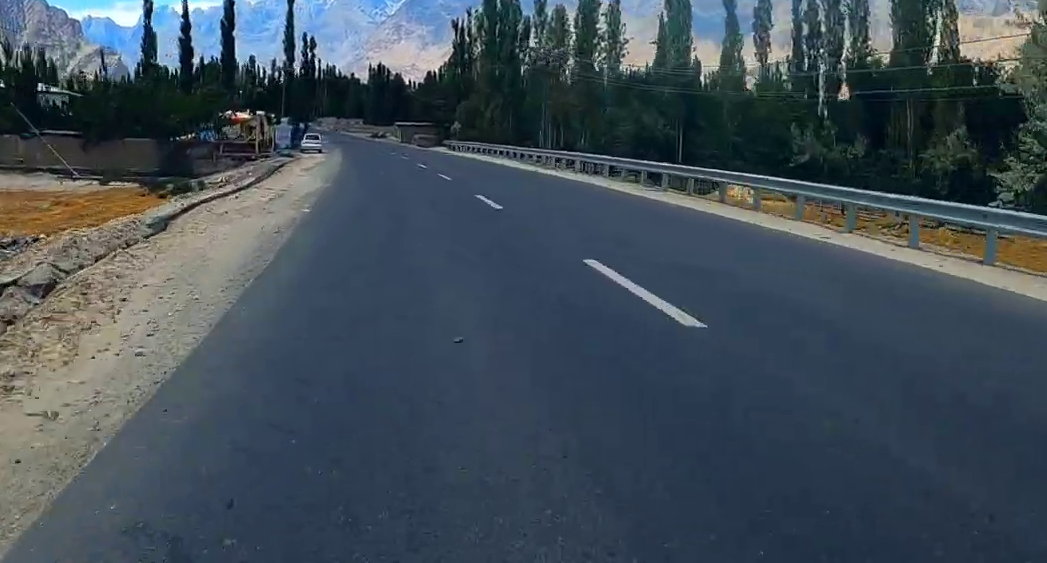left: (375, 171, 826, 443)
